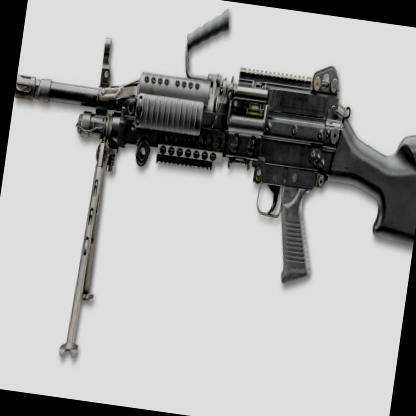rifle: (0, 0, 416, 309)
